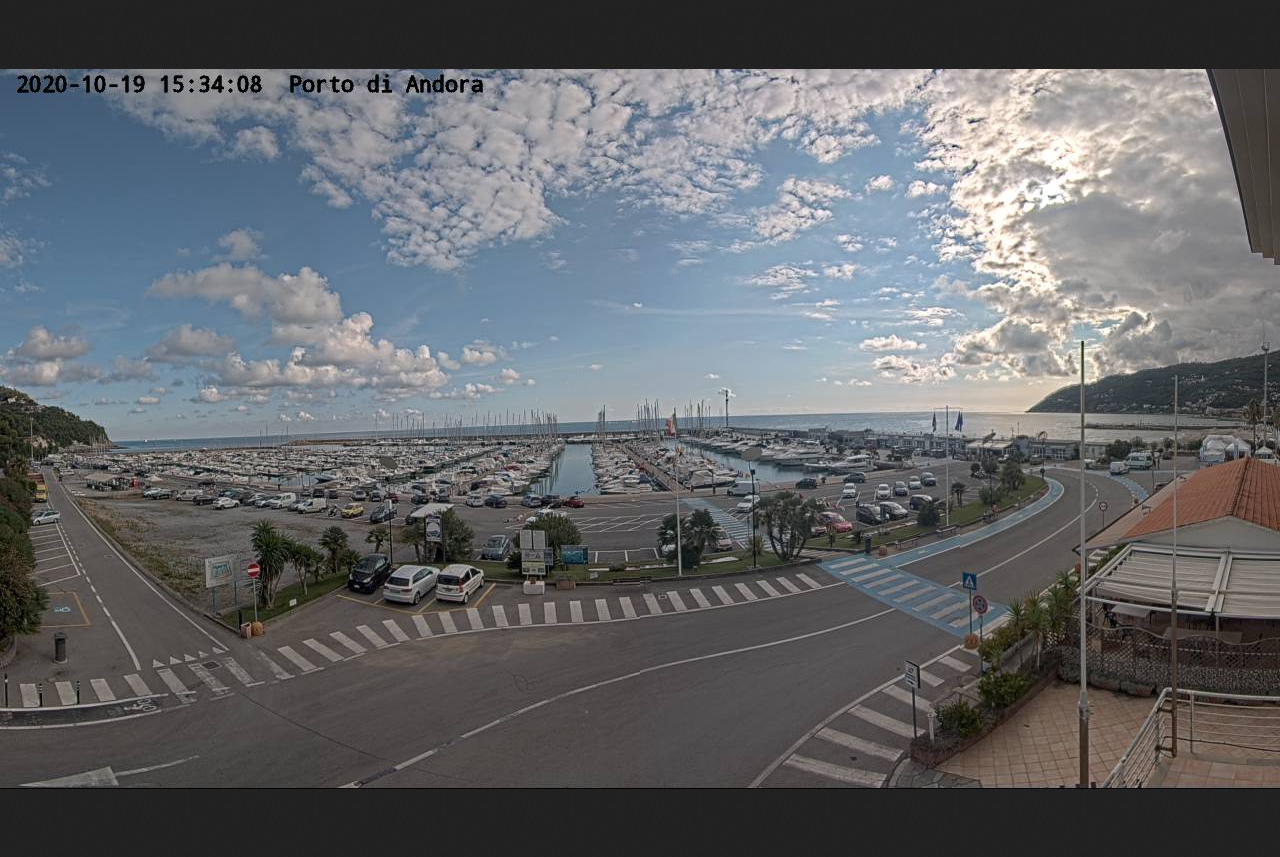yes: (664, 413, 679, 434)
